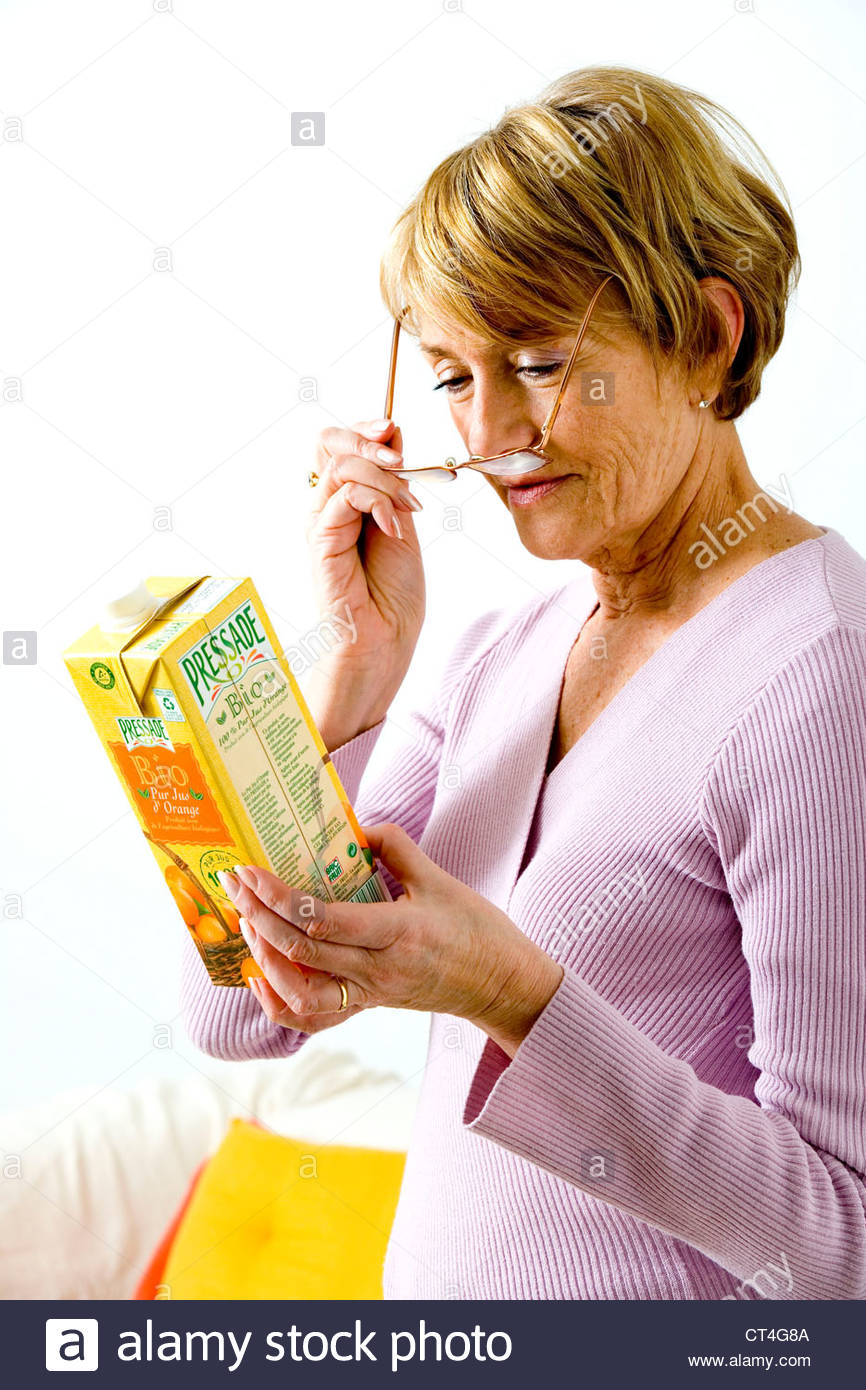carton: (40, 478, 404, 1108)
